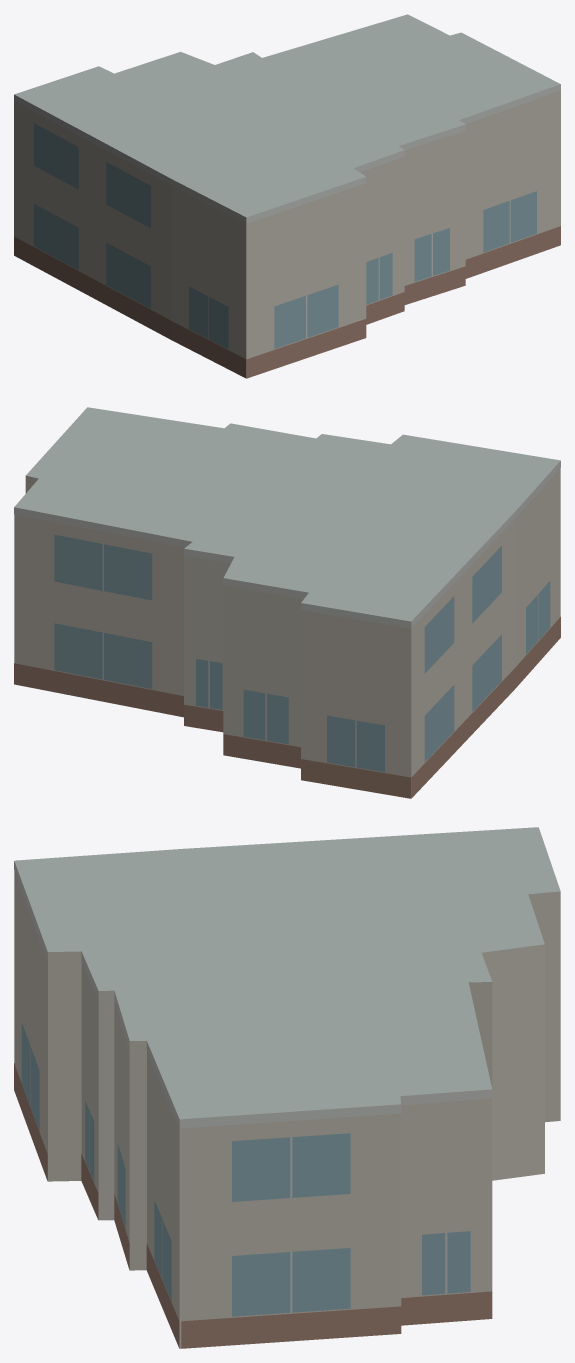
The model's file is survey-upis-32604859.glb.
3 views of the same model, one above another, from view 1: azimuth 30°, elevation 25°; view 2: azimuth 150°, elevation 25°; view 3: azimuth 270°, elevation 25° (orthographic). The views are drawn at different scales.
Visible parts, largest first — view 1: survey-upis-32604859.tmp; view 2: survey-upis-32604859.tmp; view 3: survey-upis-32604859.tmp.
Part boxes in pixels (left/top/right/bottom): survey-upis-32604859.tmp: left=14, top=14, right=560, bottom=378; survey-upis-32604859.tmp: left=14, top=407, right=560, bottom=798; survey-upis-32604859.tmp: left=14, top=827, right=560, bottom=1348.
Size of the model in its own units: 16.67 by 6.1 by 13.18.
